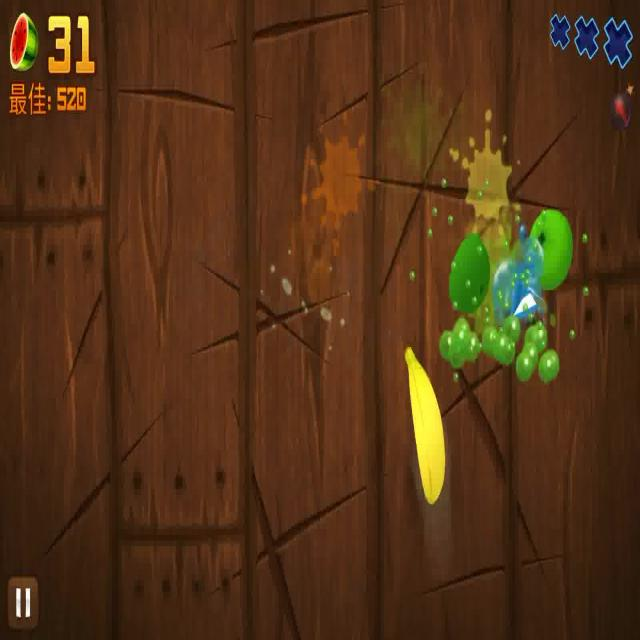fruit: (402, 336, 446, 507), (519, 207, 572, 294), (444, 234, 488, 309)
